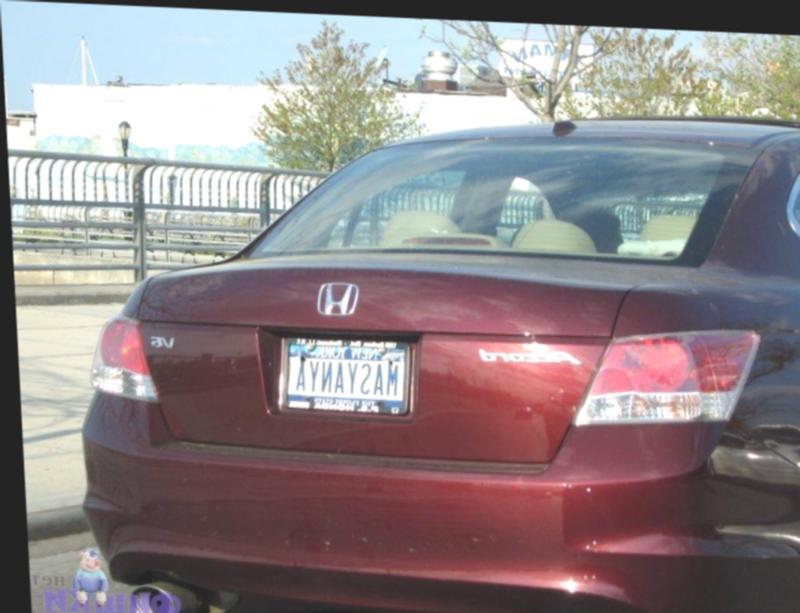License_Plate: (265, 325, 424, 434)
